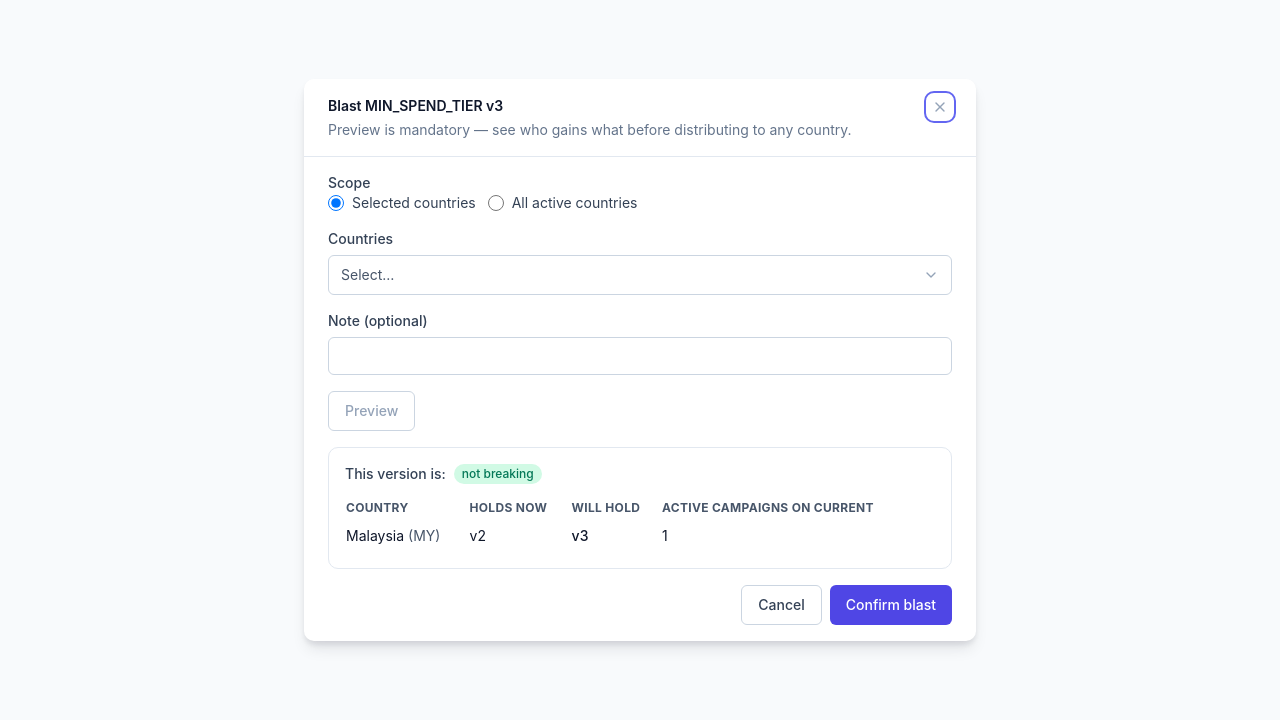
Test case: BlastDialog › a blast failure surfaces the ApiError message and does not close the dialog
The width and height of the screenshot is (1280, 720).
Click the radio button labelled "All active countries": (496, 203) [488, 195, 504, 211]
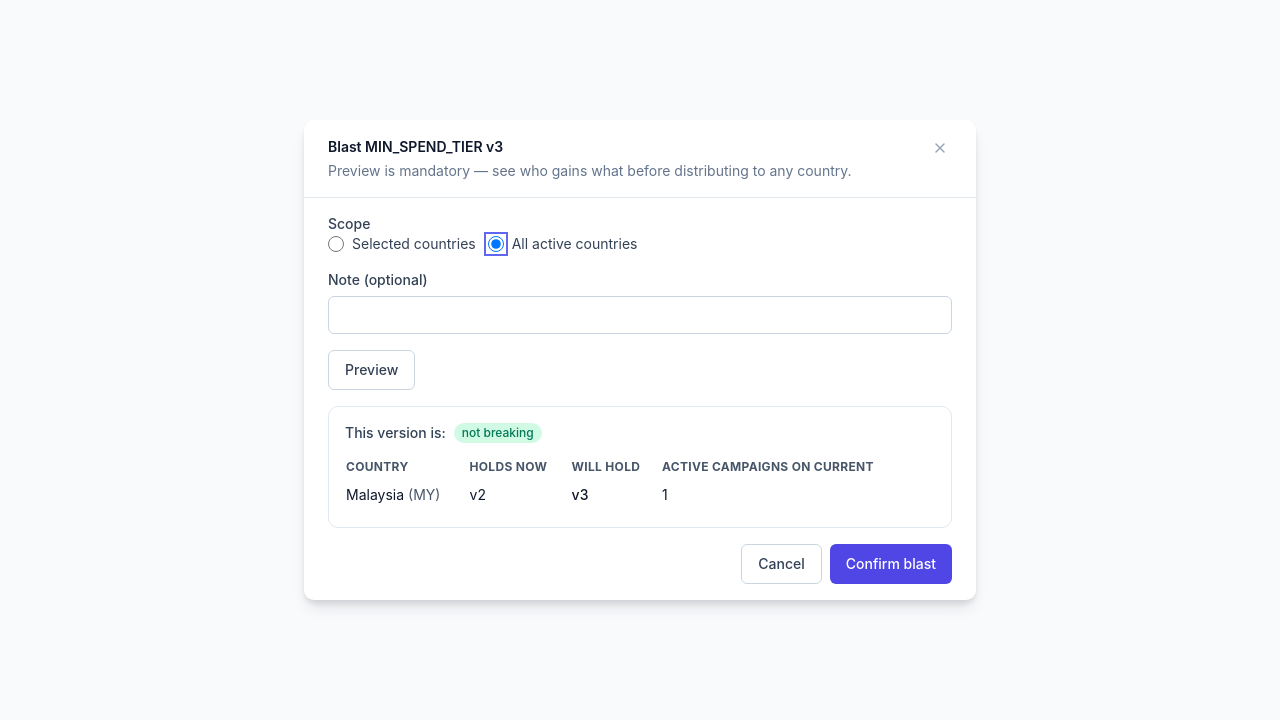
Click the button "Confirm blast": (891, 564) [830, 544, 952, 584]
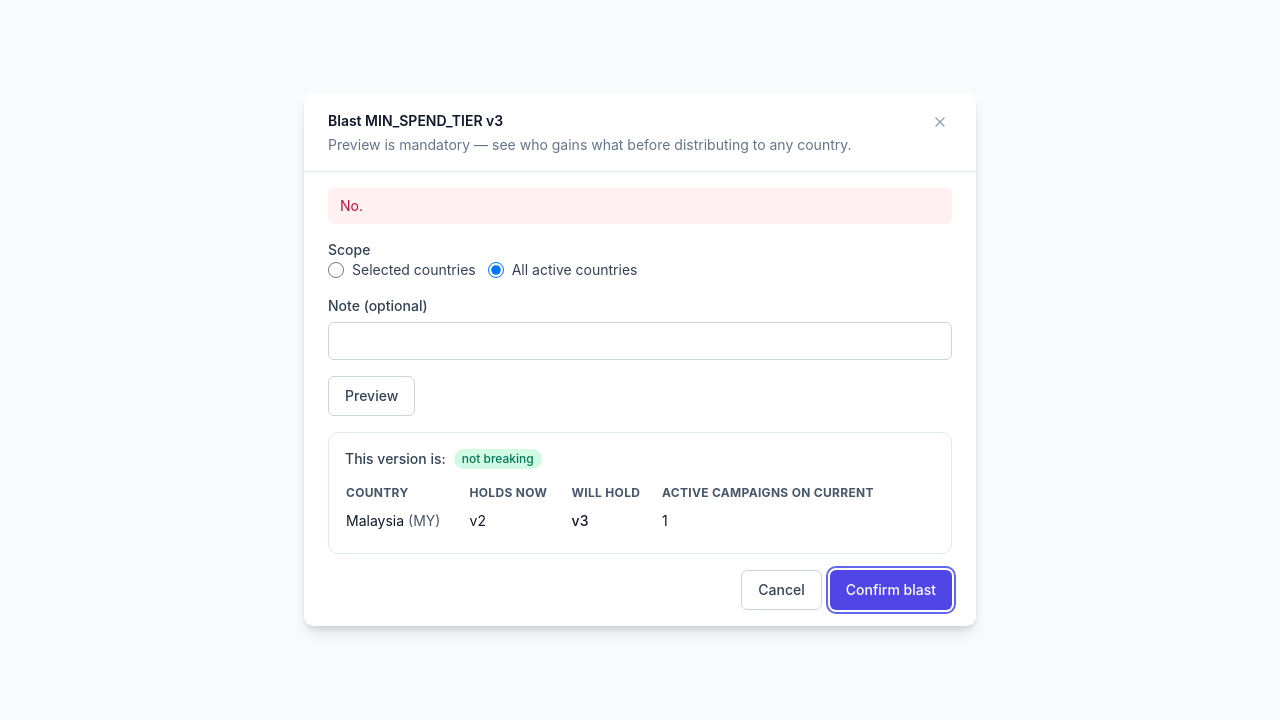
Expected: the message reads "No.", [340, 197, 363, 214]
